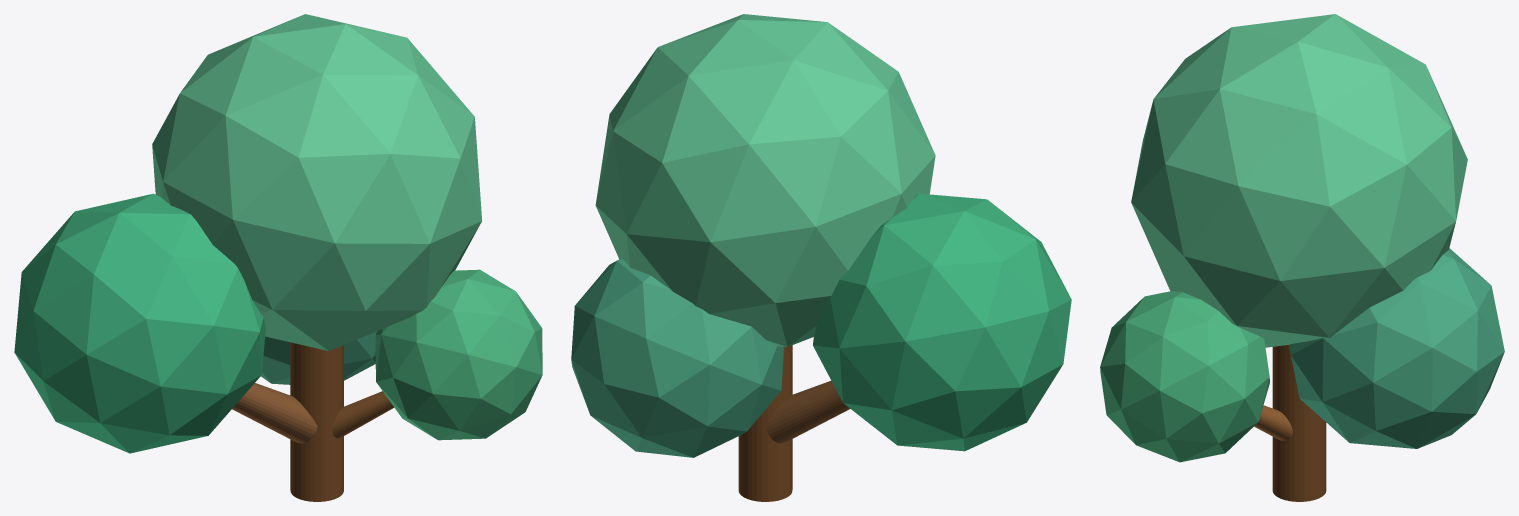
File: 矮橡树1.fbx
The picture shows the model from 3 angles, left to right: view 1: azimuth 30°, elevation 25°; view 2: azimuth 150°, elevation 25°; view 3: azimuth 270°, elevation 25°; orthographic projection.
Visible parts, largest first — view 1: Icosphere, Icosphere.002, Icosphere.001, Cylinder, Cylinder.001, Icosphere.003, Cylinder.002; view 2: Icosphere, Icosphere.002, Icosphere.003, Cylinder, Cylinder.001; view 3: Icosphere, Icosphere.003, Icosphere.001, Cylinder, Cylinder.002.
Part boxes in pixels (x1,y1,x2,y2): Icosphere: (152, 14, 482, 351); Icosphere.002: (14, 193, 265, 453); Icosphere.001: (375, 269, 542, 440); Cylinder: (290, 342, 343, 501); Cylinder.001: (232, 383, 317, 443); Icosphere.003: (261, 331, 376, 384); Cylinder.002: (332, 391, 393, 438); Icosphere: (595, 14, 935, 346); Icosphere.002: (813, 193, 1071, 451); Icosphere.003: (571, 258, 784, 457); Cylinder: (738, 345, 792, 501); Cylinder.001: (765, 381, 850, 443); Icosphere: (1131, 14, 1467, 347); Icosphere.003: (1289, 248, 1504, 448); Icosphere.001: (1100, 291, 1269, 462); Cylinder: (1272, 345, 1326, 501); Cylinder.002: (1254, 405, 1292, 440).
Size of the model in its own units: 3 by 2.97 by 2.35.
